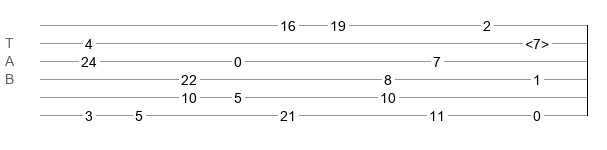0: (234, 54, 242, 64), (533, 108, 541, 118)
1: (533, 72, 541, 82)
10: (181, 90, 197, 100), (380, 90, 396, 100)
11: (429, 108, 445, 118)
16: (280, 18, 296, 28)
19: (330, 18, 346, 28)
2: (483, 18, 491, 28)
21: (280, 108, 296, 118)
22: (181, 72, 197, 82)
24: (81, 54, 97, 64)
3: (85, 108, 93, 118)
4: (85, 36, 93, 46)
5: (135, 108, 143, 118), (234, 90, 242, 100)
7: (433, 54, 441, 64)
8: (384, 72, 392, 82)
harmonic: (525, 36, 549, 46)
